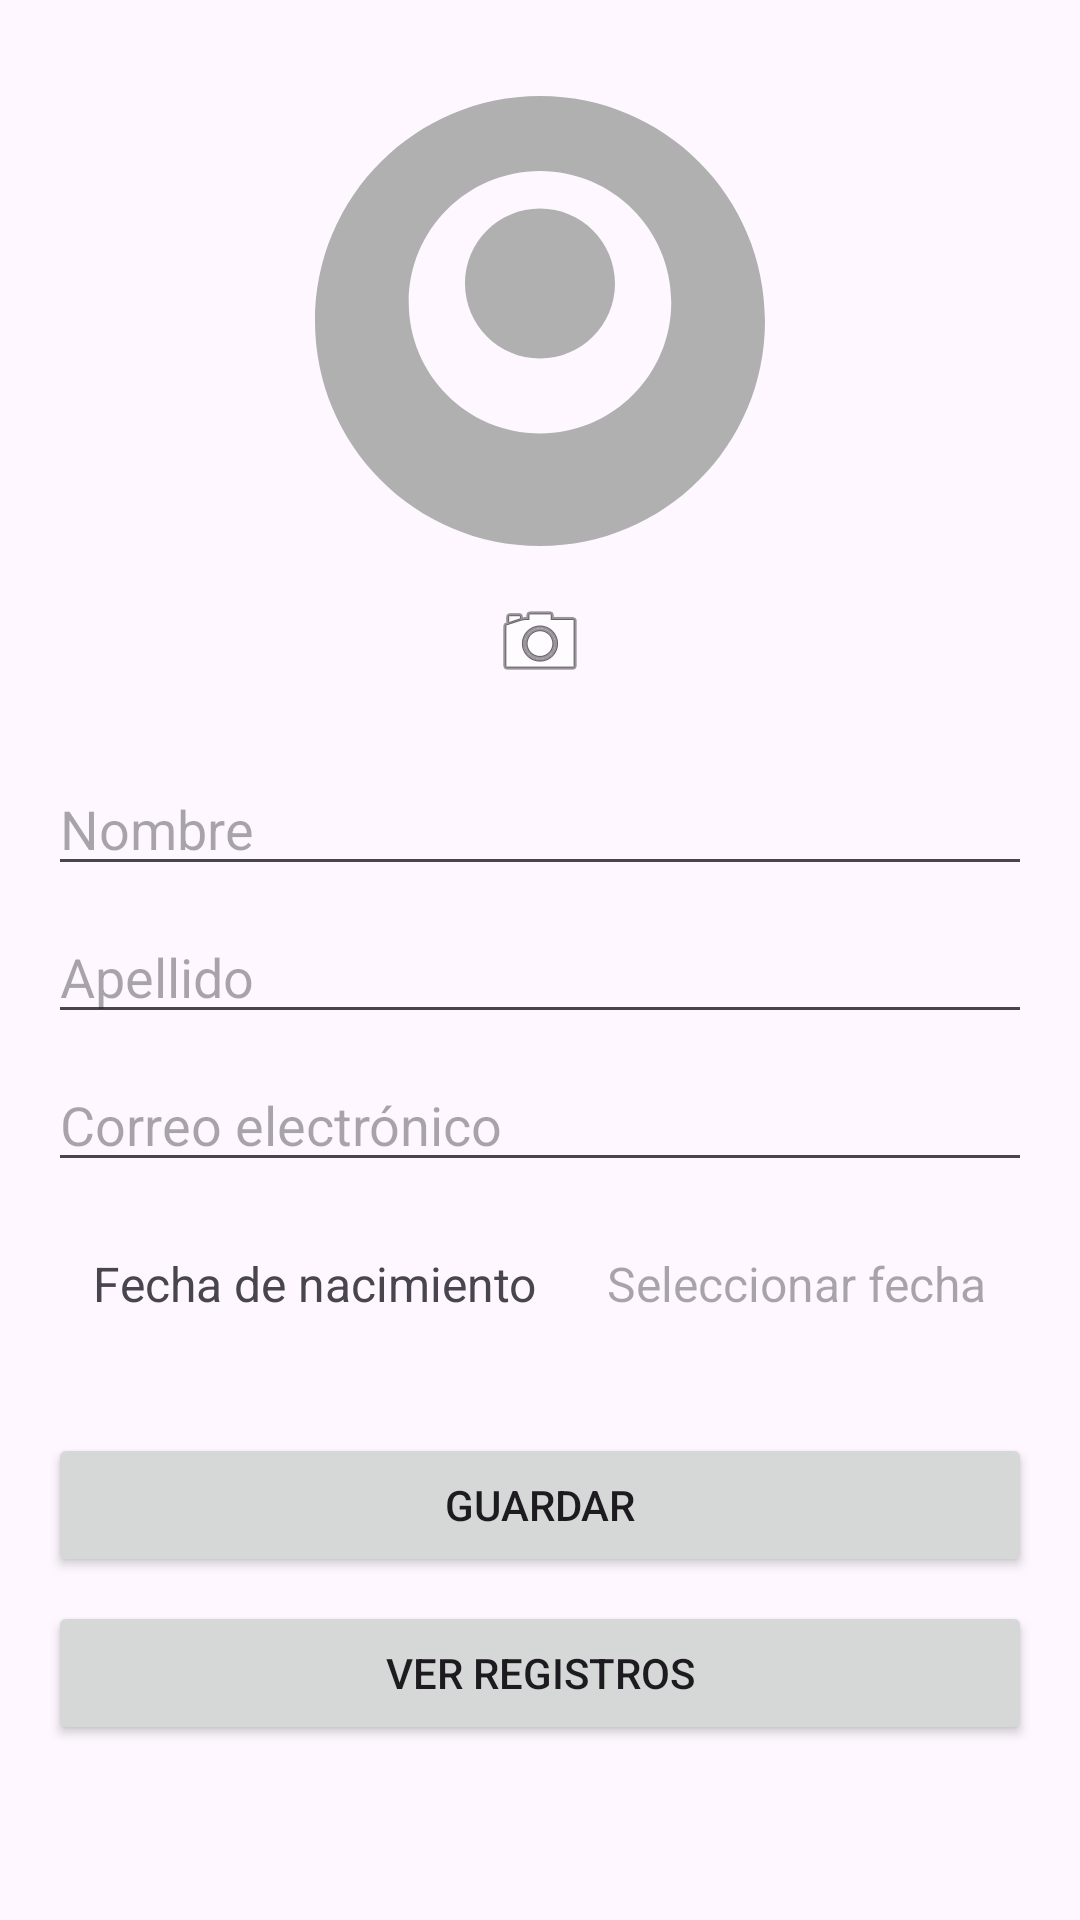

Where to tap for icons on this 1080x1920 app screen, as (x=x, y=y):
Tomar o subir foto: (x=540, y=640)
